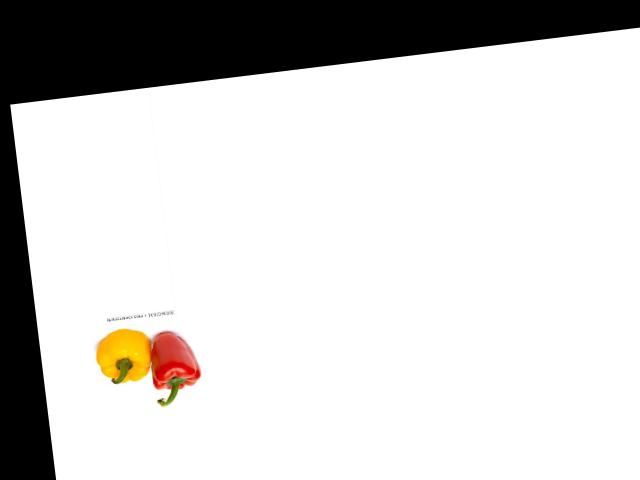bell_pepper: (90, 321, 157, 390)
